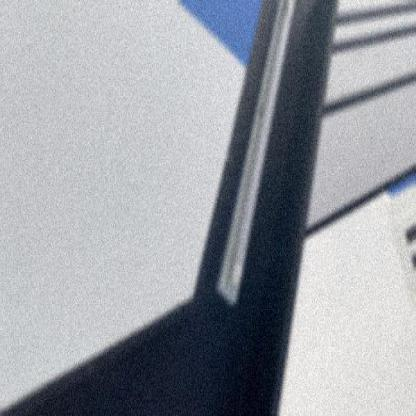light_off: (212, 2, 300, 318)
